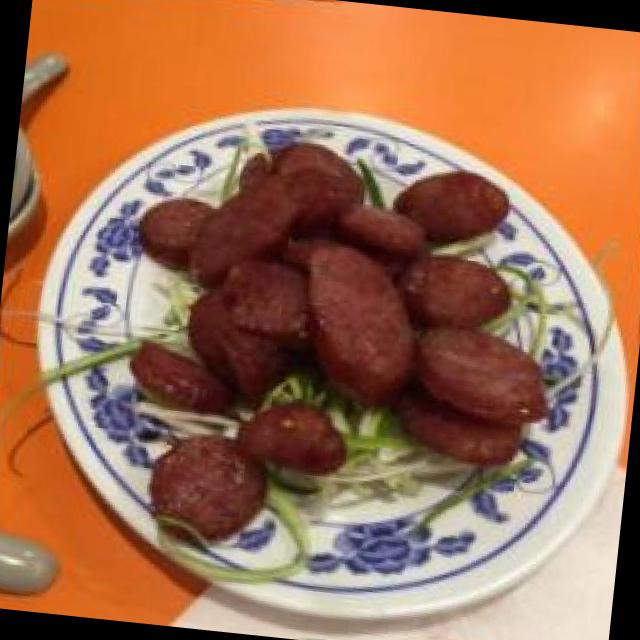chinese_sausage: (100, 118, 576, 584)
